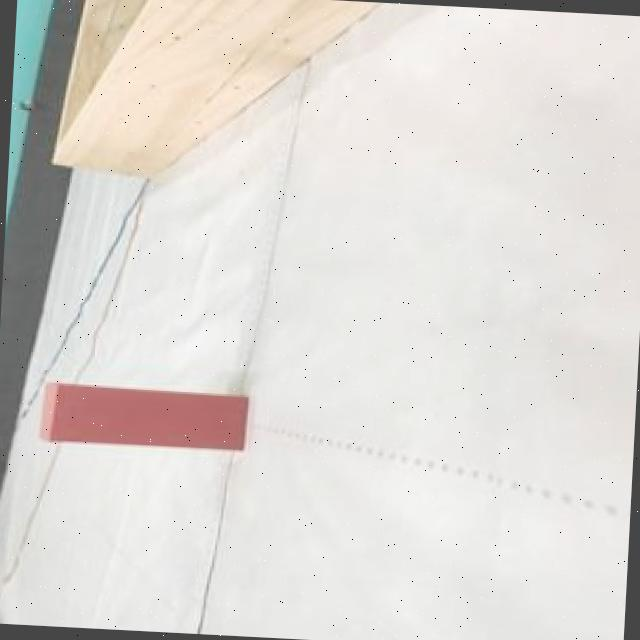redbox: (30, 380, 247, 454)
